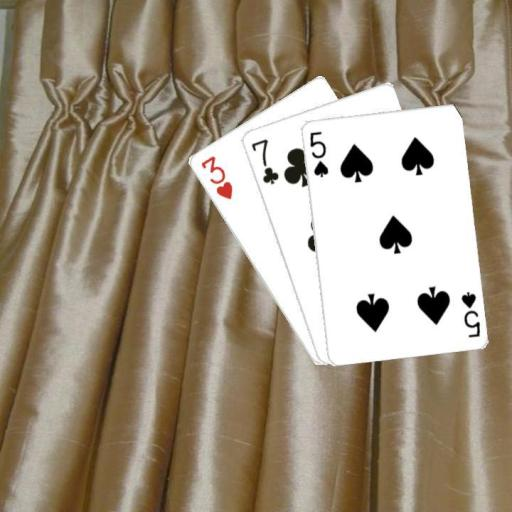3H: (197, 152, 234, 201)
5S: (458, 288, 482, 338), (306, 128, 329, 179)
7C: (248, 136, 280, 186)
